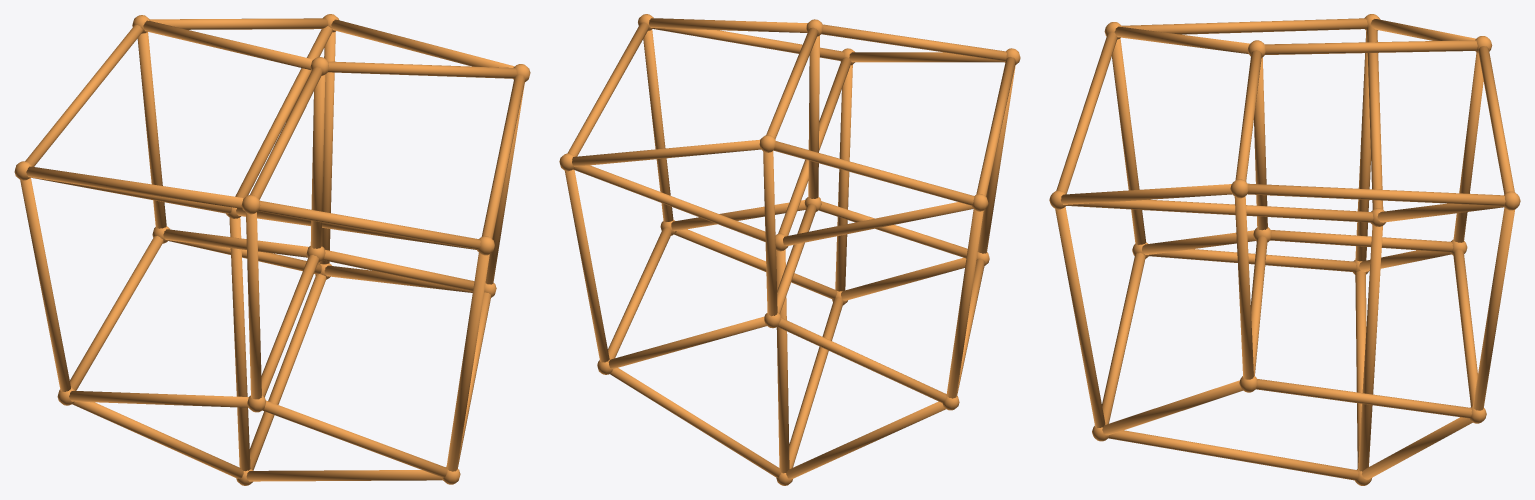
File: hyperforge-tesseract.glb
The picture shows the model from 3 angles, left to right: view 1: azimuth 30°, elevation 25°; view 2: azimuth 150°, elevation 25°; view 3: azimuth 270°, elevation 25°; orthographic projection. The views are drawn at different scales.
Visible parts, largest first — view 1: Hyperforge; view 2: Hyperforge; view 3: Hyperforge.
Part boxes in pixels (x1,y1,x2,y2): Hyperforge: (14, 14, 530, 485); Hyperforge: (559, 14, 1020, 485); Hyperforge: (1049, 14, 1520, 485).
Bounding box in the file's own units: 1.85 × 1.83 × 1.72.
